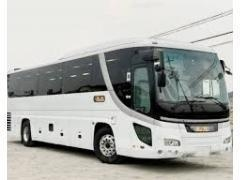bus: (11, 38, 228, 163)
